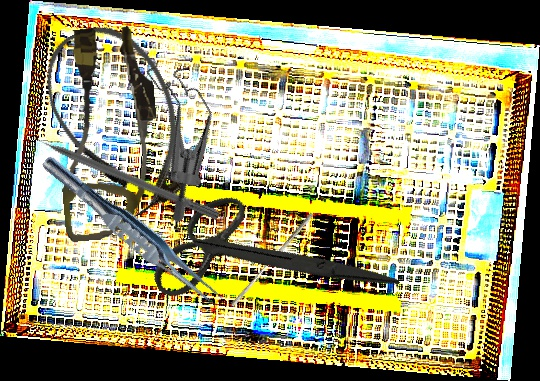Cannula: (26, 7, 213, 230), (48, 23, 167, 243)
Iris Scissors: (134, 145, 401, 374)
Pusher: (21, 127, 221, 221), (230, 209, 314, 310)
Speculum: (97, 45, 255, 225)
Tissue Forceps: (34, 150, 232, 314)
